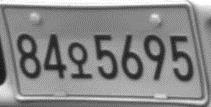4: (42, 32, 67, 78)
5: (168, 34, 194, 81), (93, 33, 118, 79)
6: (120, 33, 143, 80)
8: (15, 33, 41, 79)
9: (142, 34, 166, 80)
오: (66, 41, 92, 79)
